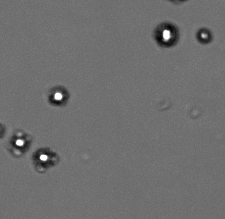Living Cell: (154, 21, 178, 47), (33, 147, 57, 169), (10, 131, 29, 154), (49, 87, 68, 106), (196, 27, 212, 44)
